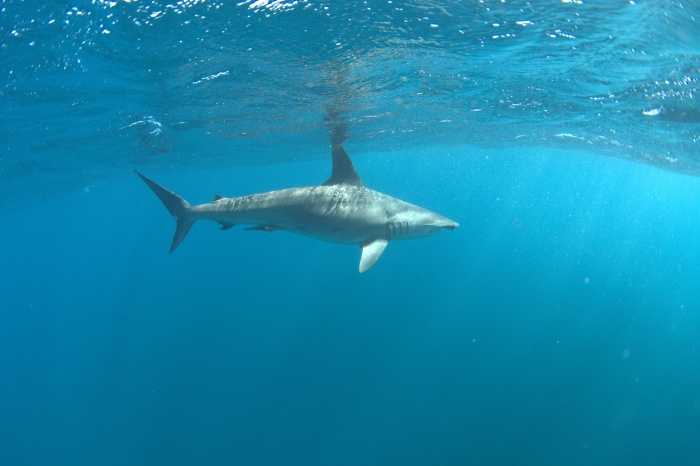Hammer: (122, 131, 480, 290)
